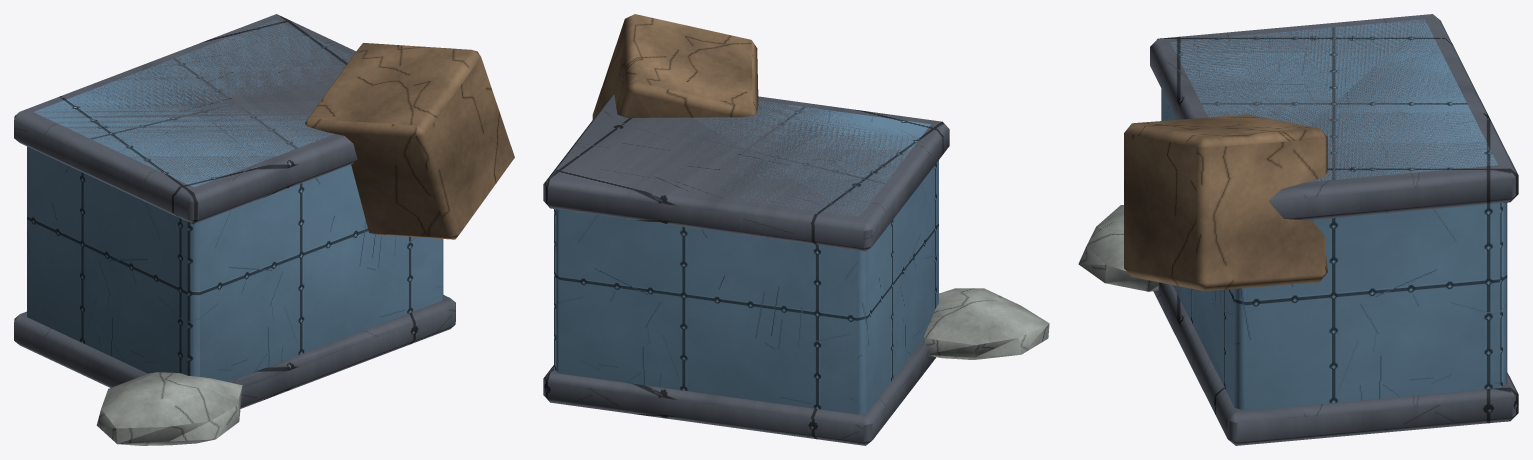
Rendered from damaged_crate.glb.
3 renders of one model, left to right at view 1: azimuth 30°, elevation 25°; view 2: azimuth 150°, elevation 25°; view 3: azimuth 270°, elevation 25°, orthographic. The views are drawn at different scales.
Parts seen in each view (by area): view 1: DL010_DamagedCrate_faded_blue, DL010_DamagedCrate_metal_dark, DL010_DamagedCrate_corrosion, DL010_DamagedCrate_mineral; view 2: DL010_DamagedCrate_faded_blue, DL010_DamagedCrate_metal_dark, DL010_DamagedCrate_corrosion, DL010_DamagedCrate_mineral; view 3: DL010_DamagedCrate_faded_blue, DL010_DamagedCrate_metal_dark, DL010_DamagedCrate_corrosion, DL010_DamagedCrate_mineral.
Part boxes in pixels (x1,y1,x2,y2): DL010_DamagedCrate_faded_blue: (27,20,443,381); DL010_DamagedCrate_metal_dark: (14,14,455,408); DL010_DamagedCrate_corrosion: (305,42,514,239); DL010_DamagedCrate_mineral: (96,372,242,445); DL010_DamagedCrate_faded_blue: (554,101,938,414); DL010_DamagedCrate_metal_dark: (543,95,949,445); DL010_DamagedCrate_corrosion: (592,14,758,119); DL010_DamagedCrate_mineral: (923,288,1049,359); DL010_DamagedCrate_faded_blue: (1161,19,1507,410); DL010_DamagedCrate_metal_dark: (1150,14,1518,445); DL010_DamagedCrate_corrosion: (1124,114,1327,290); DL010_DamagedCrate_mineral: (1078,205,1159,291).
Bounding box in the file's own units: 1.76 × 1.11 × 1.42.
5 materials, 5 textured.
